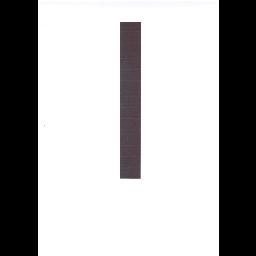i: (102, 12, 162, 192)
